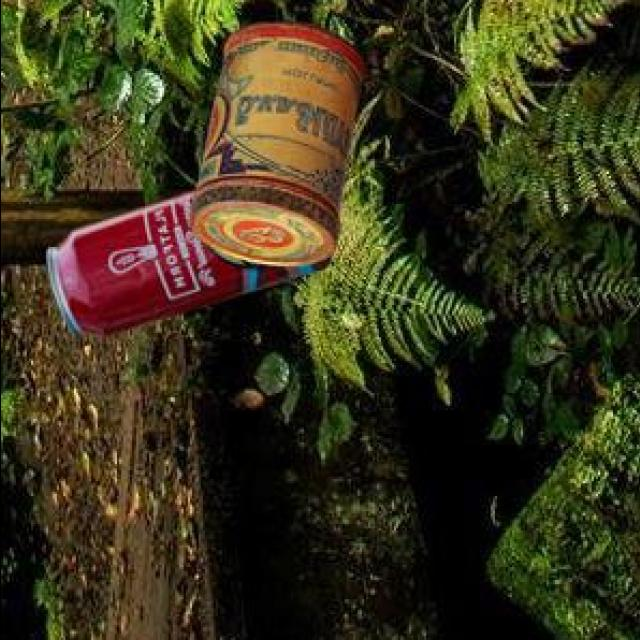logam: (188, 18, 360, 263), (44, 188, 328, 332)
